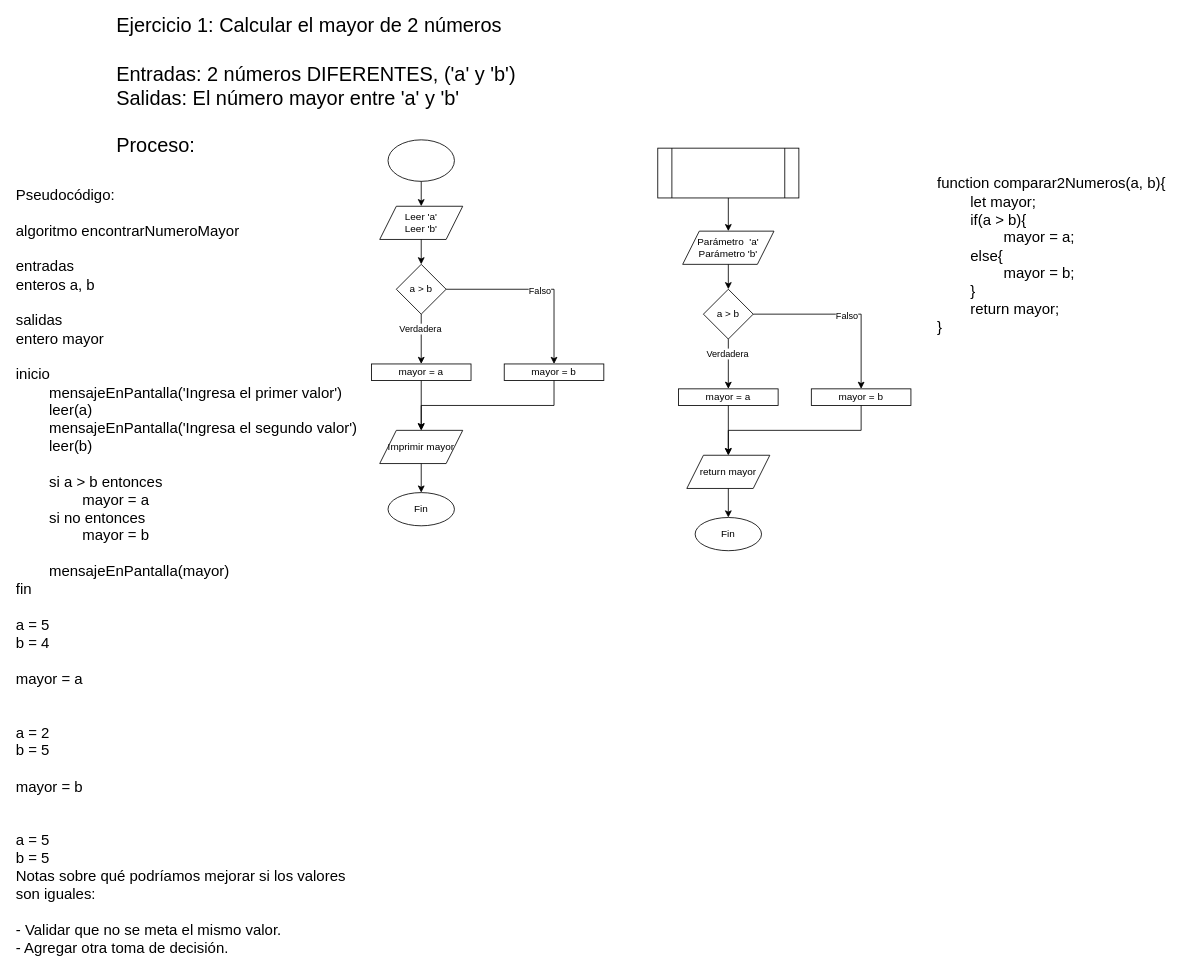
The diagram is 1199 pixels wide and 973 high, and some of its shapes have lost their labels. Each missing label, with the centre of its shape:
"comparar2Numeros" belongs at [728,172].
"Inicio" belongs at [420,160].
